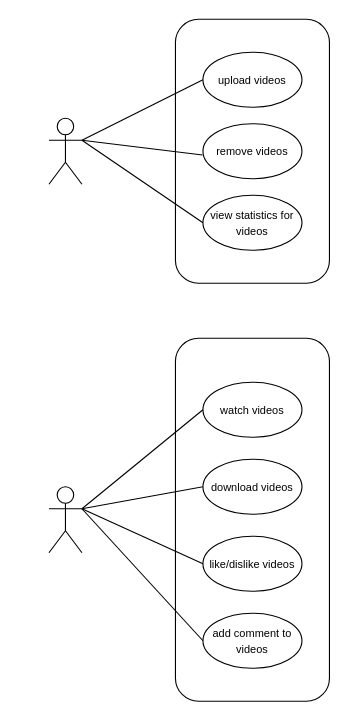
The diagram is 349 pixels wide and 721 high, and some of its shapes have lost their labels. The centre of each missing label's shape, as x and y in pixels:
"Basic User" belongs at point (65, 519).
"Content Creator" belongs at point (65, 150).
